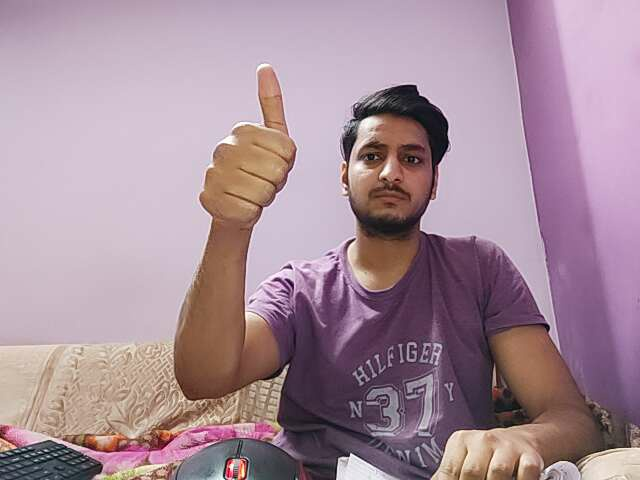ThumbsUp: (198, 60, 300, 229)
